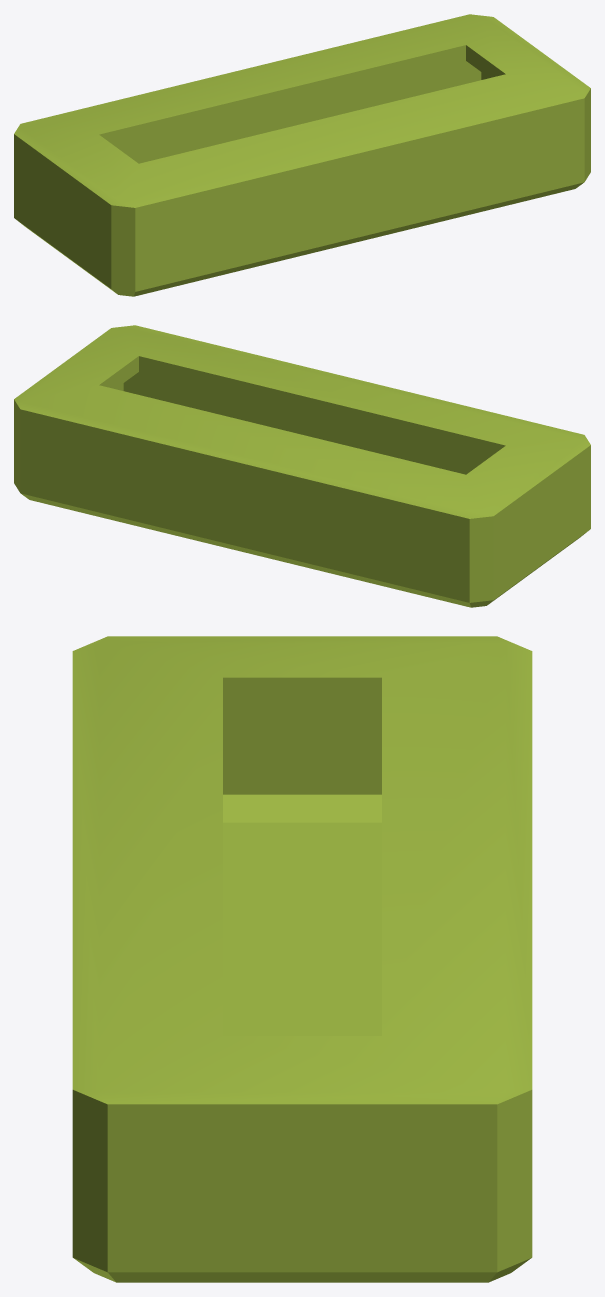
Rendered from Ob_Switch_Handle.FBX.
3 renders of one model, top to bottom at view 1: azimuth 30°, elevation 25°; view 2: azimuth 150°, elevation 25°; view 3: azimuth 270°, elevation 25°, orthographic. The views are drawn at different scales.
Parts seen in each view (by area): view 1: Handle Holder; view 2: Handle Holder; view 3: Handle Holder.
Part boxes in pixels (bbox=[...]): Handle Holder: bbox=[14, 14, 590, 296]; Handle Holder: bbox=[14, 325, 590, 607]; Handle Holder: bbox=[72, 636, 532, 1282].
Size of the model in its own units: 31.62 by 6.32 by 13.12.
